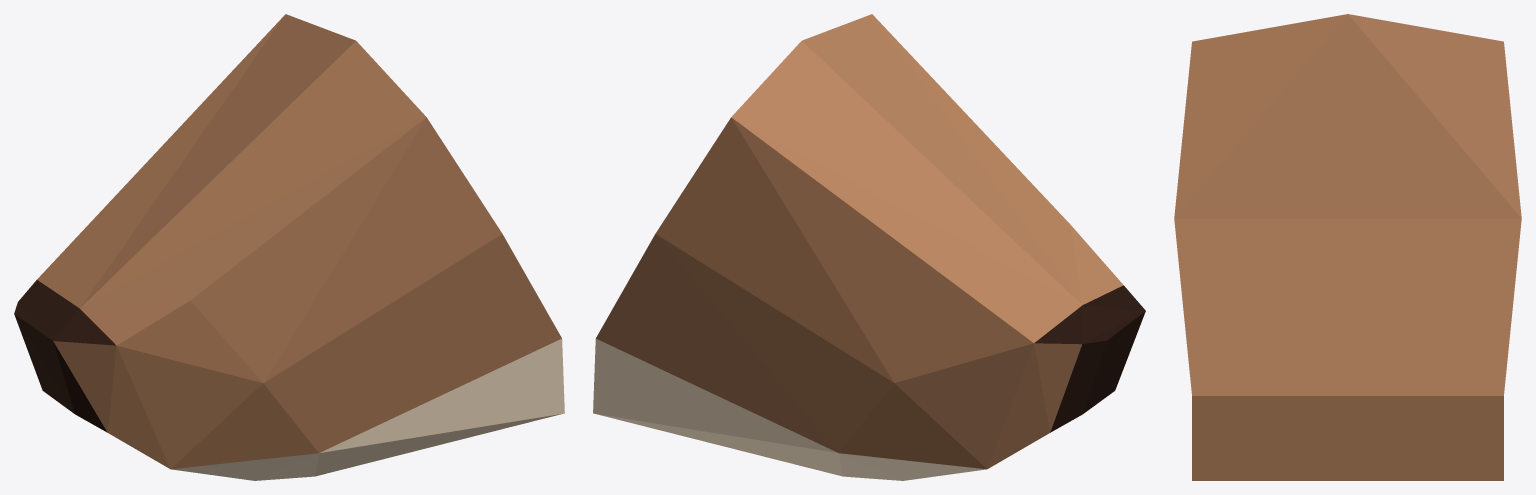
File: snoutv2.fbx
The picture shows the model from 3 angles, left to right: view 1: azimuth 30°, elevation 25°; view 2: azimuth 150°, elevation 25°; view 3: azimuth 270°, elevation 25°; orthographic projection. The views are drawn at different scales.
Visible parts, largest first — view 1: Cube; view 2: Cube; view 3: Cube.
Boxes of the visible parts, <box> form: Cube: <box>14,14,564,480</box>; Cube: <box>593,14,1145,480</box>; Cube: <box>1174,14,1521,480</box>.
Size of the model in its own units: 255 by 205 by 150.
